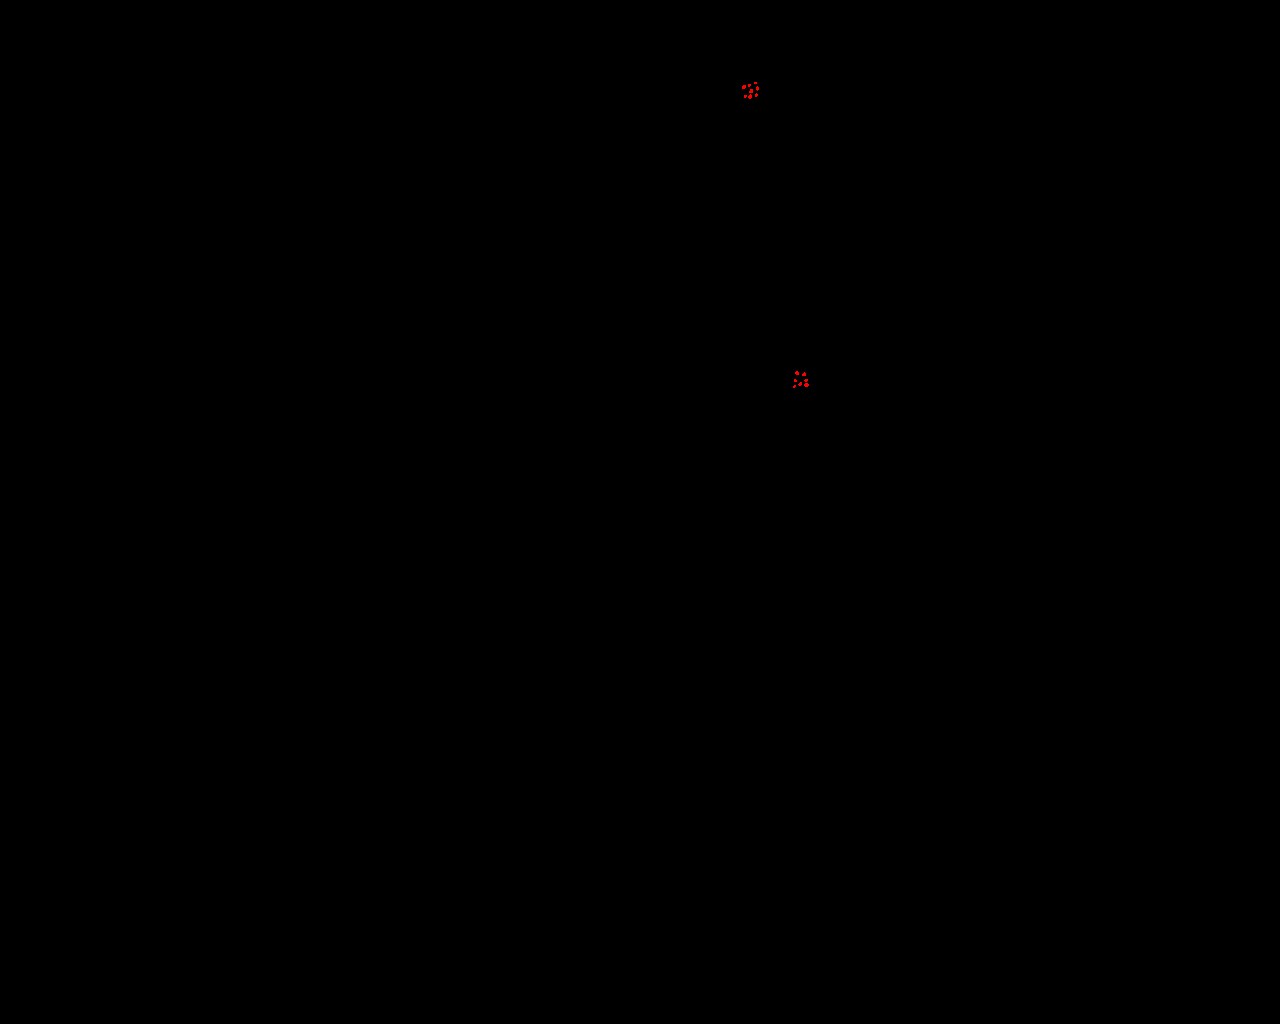Target: (748, 94, 752, 99), (742, 85, 746, 89), (749, 89, 753, 93), (795, 371, 799, 375), (804, 383, 809, 387), (802, 372, 806, 376), (804, 379, 808, 382), (798, 382, 802, 386), (757, 86, 759, 91), (748, 84, 751, 87), (744, 95, 747, 98), (794, 379, 797, 382), (793, 385, 796, 388), (755, 93, 758, 97), (754, 82, 757, 84)
